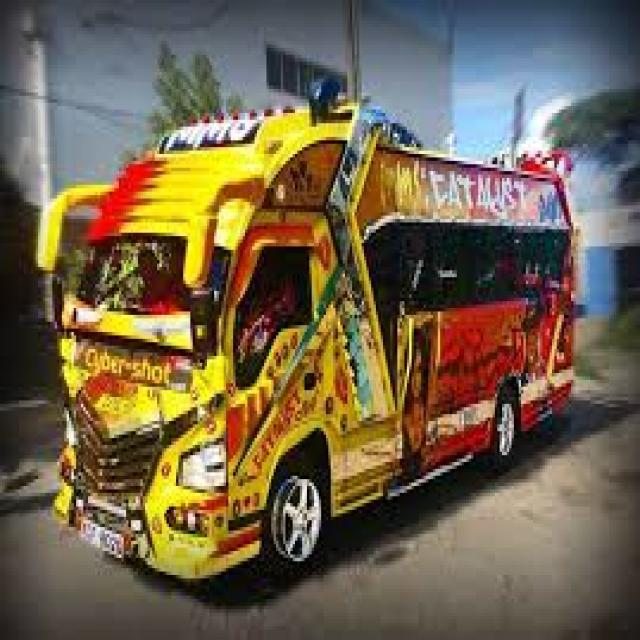bus: (9, 28, 621, 610)
